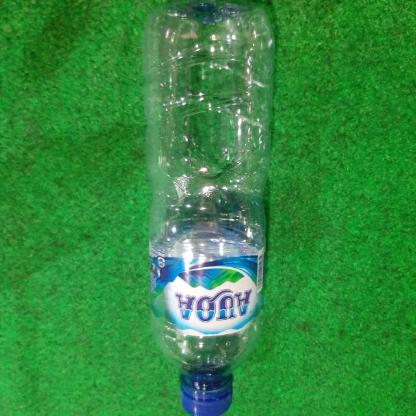Plastic Bottle: (144, 0, 280, 416)
